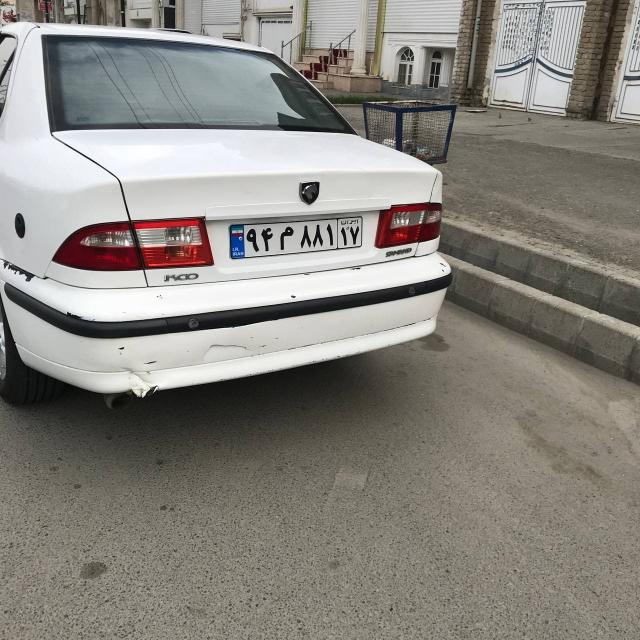Plates: (227, 211, 365, 259)
